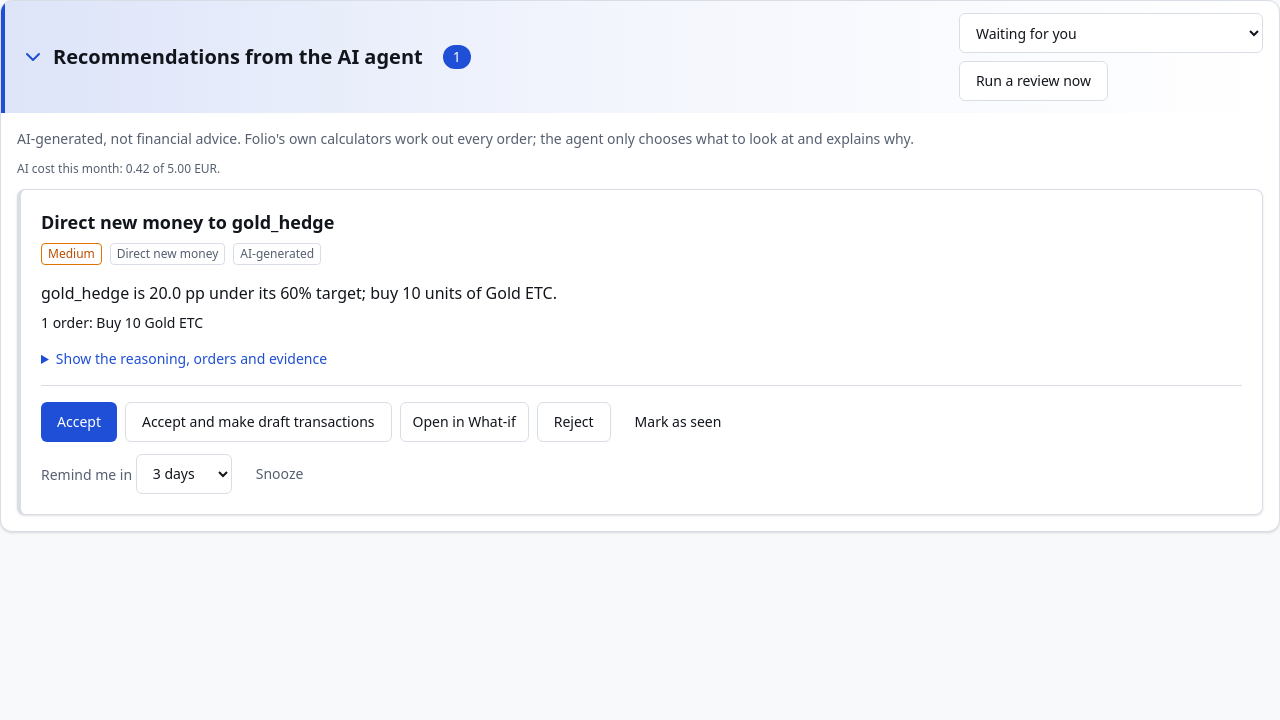
Scenario: recommendations on Insights (FR-AG-05) › accepts, and can make draft transactions from the calculation
Click the button "Accept and make draft transactions" at {"x": 258, "y": 422}, box [125,402,392,442]
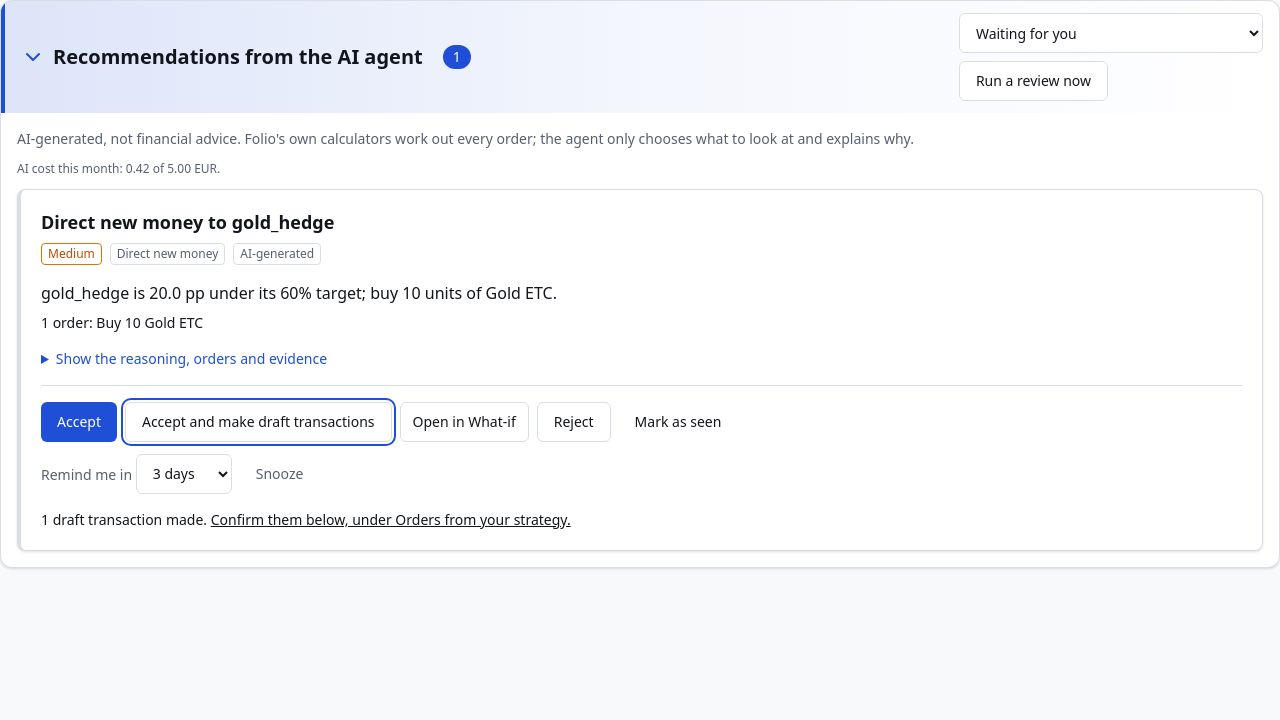
Expected: the text "1 draft transaction made." is shown, [41,510,207,529]
